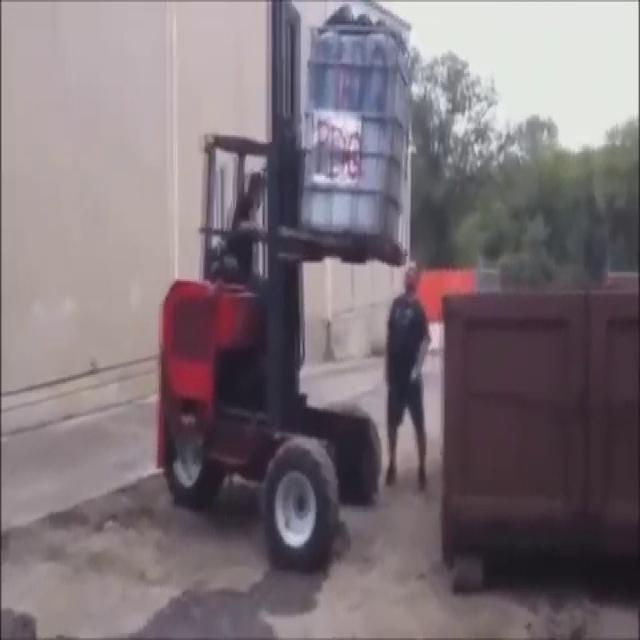Chariot elevateur: (155, 2, 416, 580)
